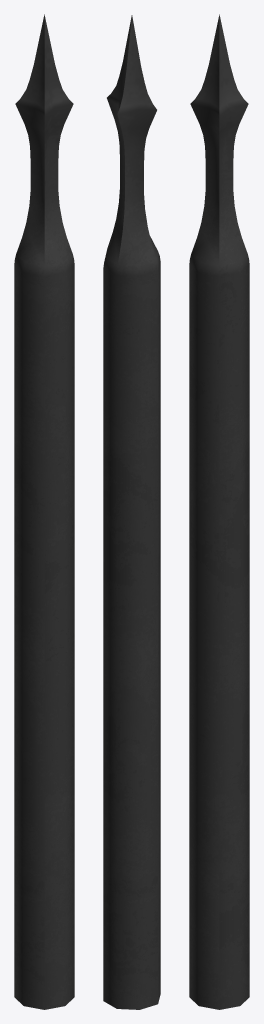
Rendered from SM_RailingAPoleA.fbx.
The picture shows the model from 3 angles, left to right: view 1: azimuth 90°, elevation 25°; view 2: azimuth 150°, elevation 25°; view 3: azimuth 270°, elevation 25°; orthographic projection.
Visible parts, largest first — view 1: SM_RailingAPoleA_LOD0; view 2: SM_RailingAPoleA_LOD0; view 3: SM_RailingAPoleA_LOD0.
Boxes of the visible parts, left/top/right/bottom form: SM_RailingAPoleA_LOD0: left=14, top=14, right=74, bottom=1009; SM_RailingAPoleA_LOD0: left=103, top=15, right=160, bottom=1009; SM_RailingAPoleA_LOD0: left=189, top=14, right=249, bottom=1009.
Bounding box in the file's own units: 9.58 × 9.58 × 173.
Materials: 1 (1 with a texture image).
